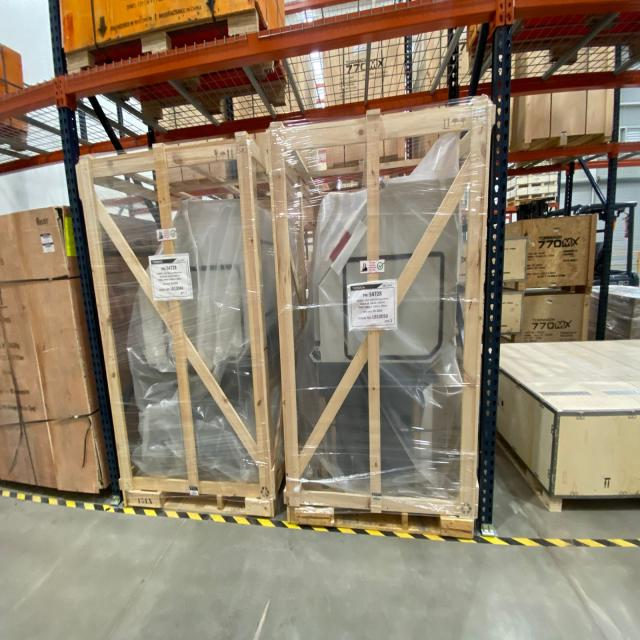15lx: (268, 97, 495, 535)
